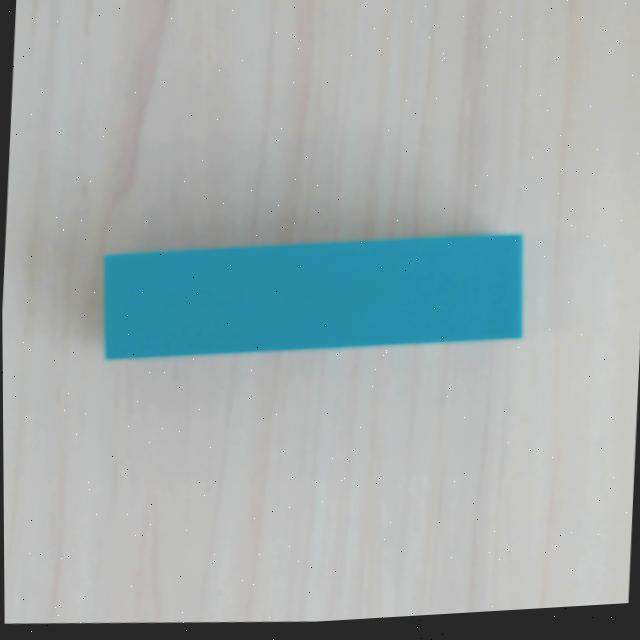Balok-Hijau-1002525: (101, 231, 527, 359)
